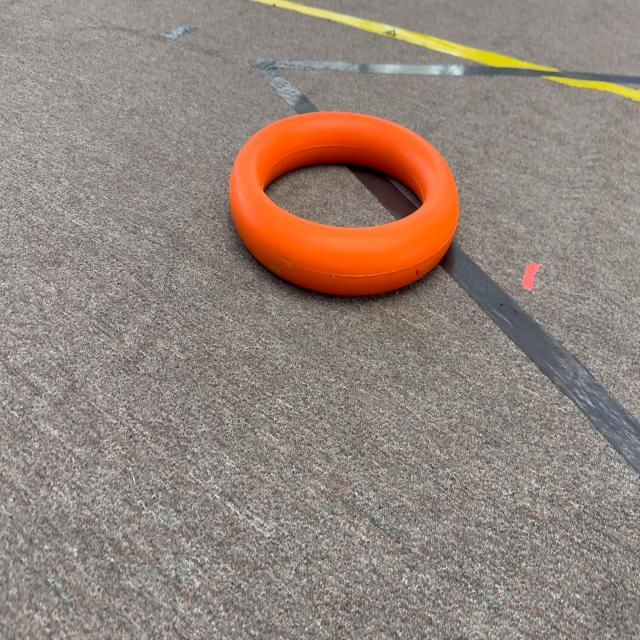note: (225, 100, 463, 306)
